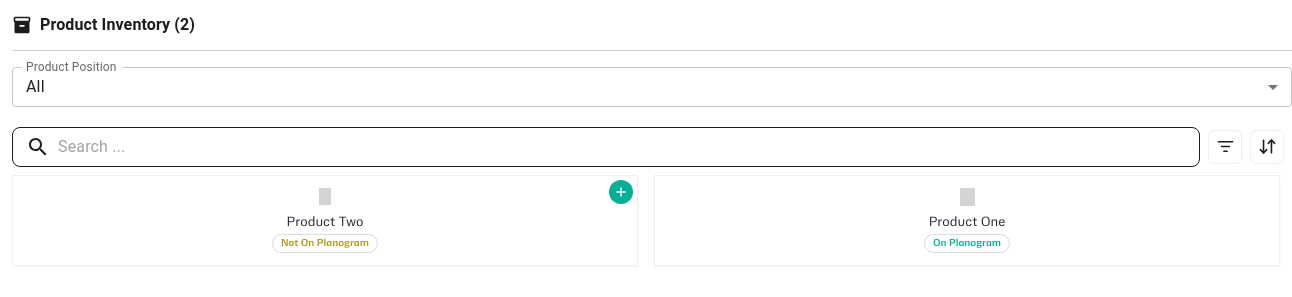
Test: ProductInventory › filters products by Not On Planogram position
Press the mouse on the dropdown named "Product Position" at (35, 87), box [26,77,45,96]
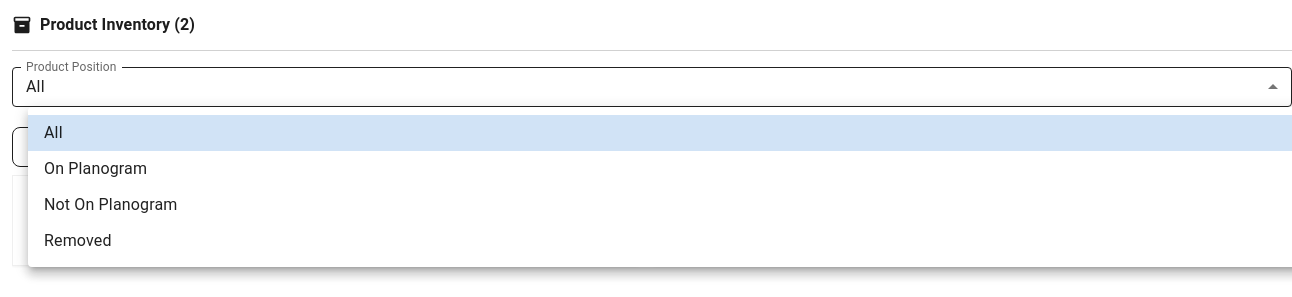
Click the option "Not On Planogram" at (111, 204), box [44,195,177,214]
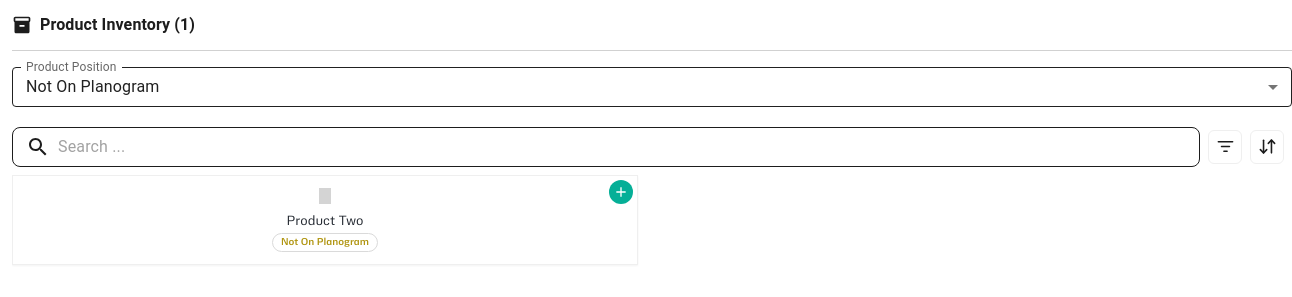
Expected: the text "Product Two" is shown, [287,215,363,227]
Expected: the heading "Product Inventory (1)" is shown, [40,12,195,38]
